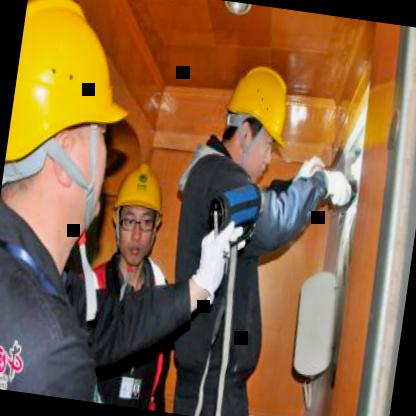helmet: (0, 0, 147, 278), (212, 54, 302, 189), (101, 150, 174, 269)
